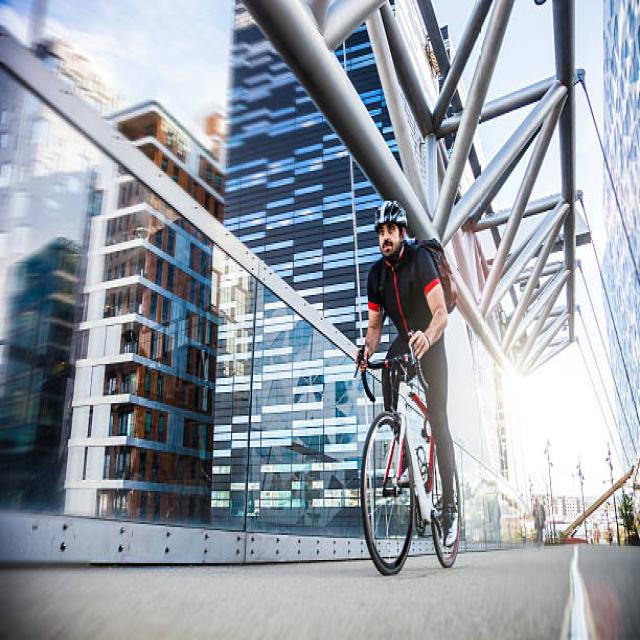bicycle: (356, 201, 460, 575)
